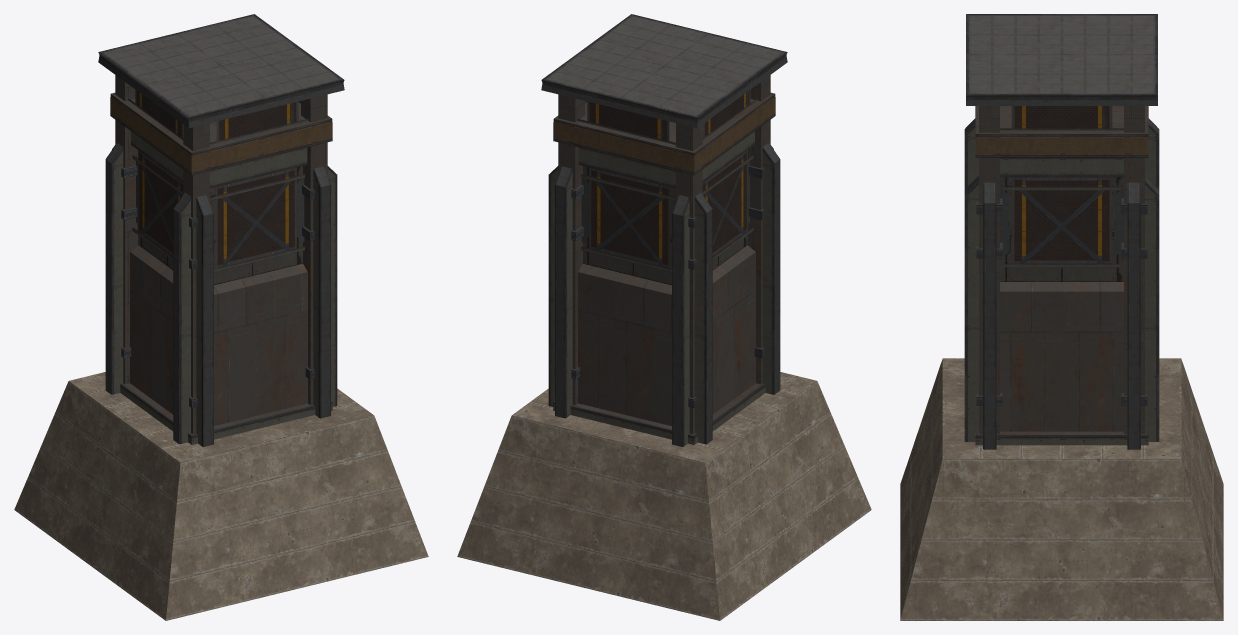
Rendered from Wall1_Tower_L3.fbx.
3 views of the same model, side by side, from view 1: azimuth 30°, elevation 25°; view 2: azimuth 150°, elevation 25°; view 3: azimuth 270°, elevation 25° (orthographic). The views are drawn at different scales.
Visible parts, largest first — view 1: polySurface913; view 2: polySurface913; view 3: polySurface913.
Boxes of the visible parts, x1,y1,x2,y2 form: polySurface913: [14, 14, 428, 620]; polySurface913: [457, 14, 871, 620]; polySurface913: [900, 14, 1223, 620].
Size of the model in its own units: 2019 by 3430 by 2019.
